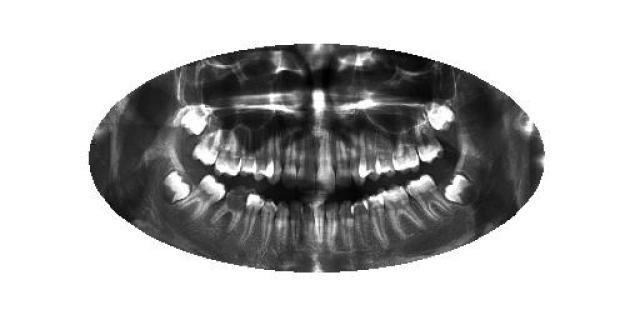Cavity: (211, 185, 255, 230)
Restorations: (440, 170, 478, 208)
